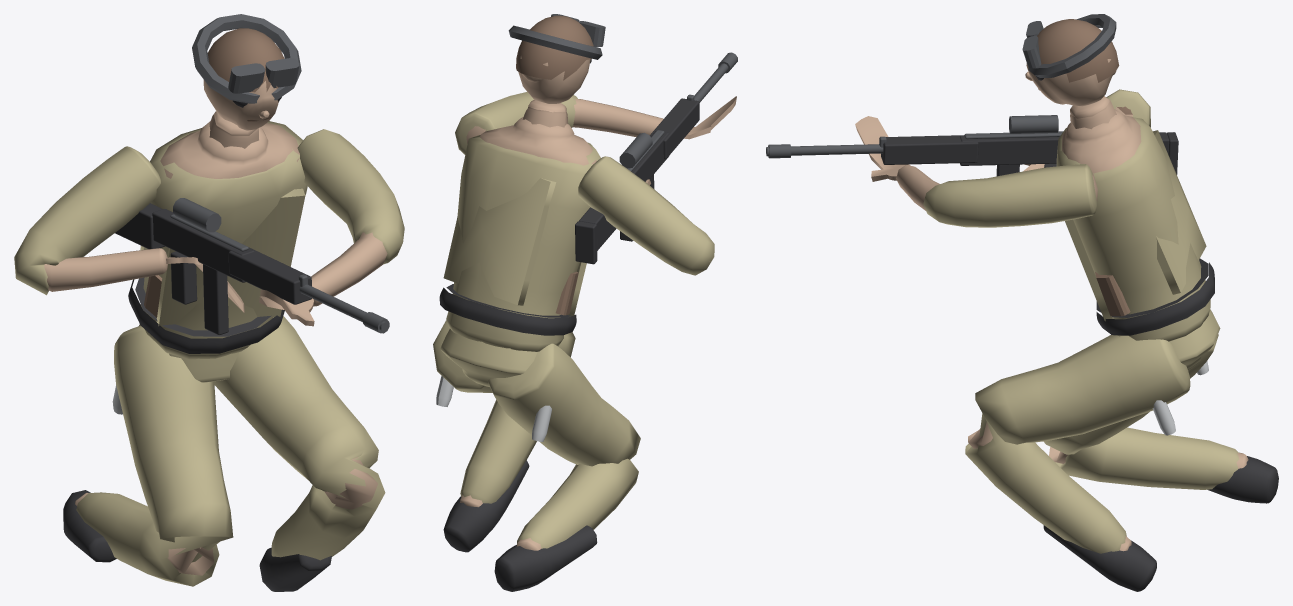
File: tactical-shooter-hill-town-field-engineer-crouch-aim-76a53f60__27588.glb
3 renders of one model, left to right at view 1: azimuth 30°, elevation 25°; view 2: azimuth 150°, elevation 25°; view 3: azimuth 270°, elevation 25°, orthographic. The views are drawn at different scales.
Visible parts, largest first — view 1: field-engineer-crouch-aim; view 2: field-engineer-crouch-aim; view 3: field-engineer-crouch-aim.
Boxes of the visible parts, left/top/right/bottom form: field-engineer-crouch-aim: left=14, top=14, right=404, bottom=591; field-engineer-crouch-aim: left=433, top=14, right=737, bottom=591; field-engineer-crouch-aim: left=766, top=14, right=1278, bottom=591.
Bounding box in the file's own units: 0.7467 × 1.37 × 1.18.
